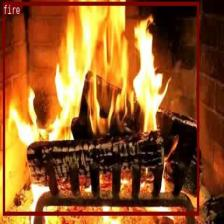fire: (3, 1, 199, 215)
